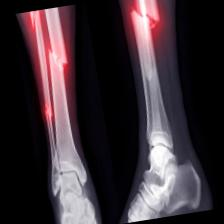open-compound-fracture: (16, 0, 217, 224)
